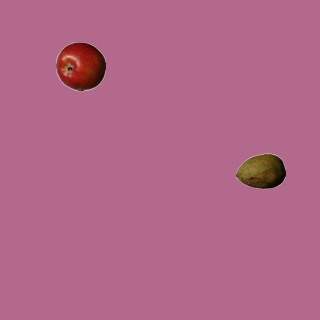Apple Braeburn: (55, 41, 105, 91)
Papaya: (235, 146, 285, 196)
